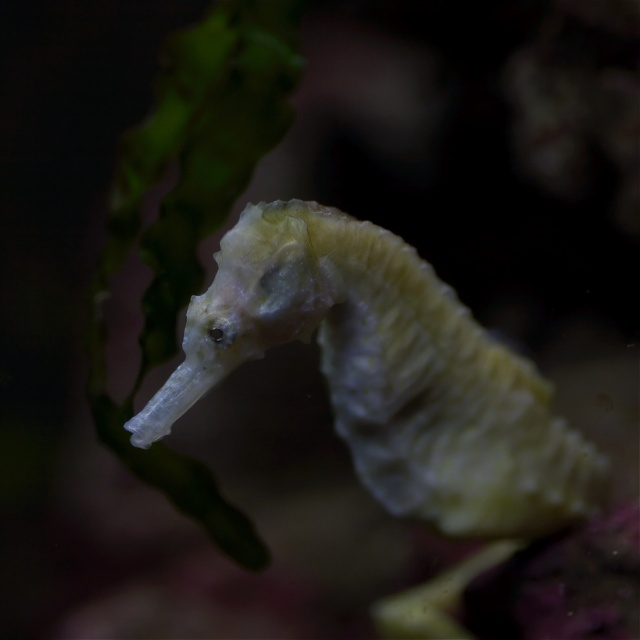Seahorse: (121, 198, 617, 640)
